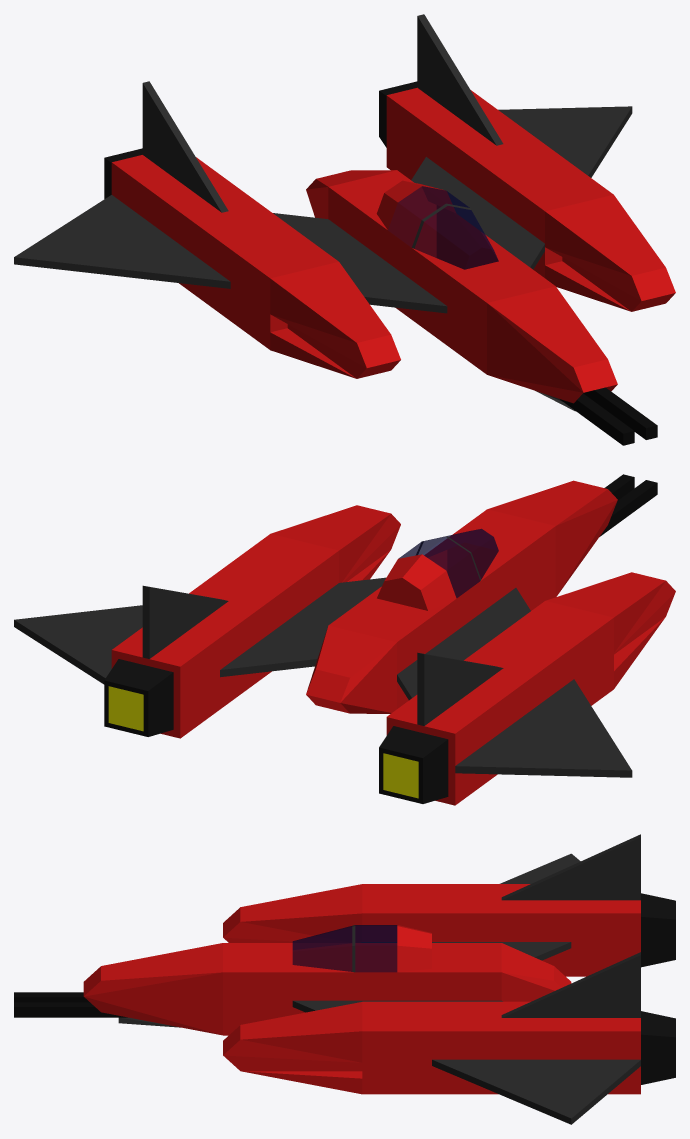
File: Ship_Lightning.obj
3 renders of one model, top to bottom at view 1: azimuth 30°, elevation 25°; view 2: azimuth 150°, elevation 25°; view 3: azimuth 270°, elevation 25°, orthographic. The views are drawn at different scales.
Parts seen in each view (by area): view 1: Wing_Right.001_Cube.017; view 2: Wing_Right.001_Cube.017; view 3: Wing_Right.001_Cube.017.
Part boxes in pixels (left/top/right/bottom): Wing_Right.001_Cube.017: left=14, top=14, right=675, bottom=445; Wing_Right.001_Cube.017: left=14, top=474, right=675, bottom=805; Wing_Right.001_Cube.017: left=14, top=834, right=675, bottom=1124.
Bounding box in the file's own units: 9 × 2 × 9.5.
